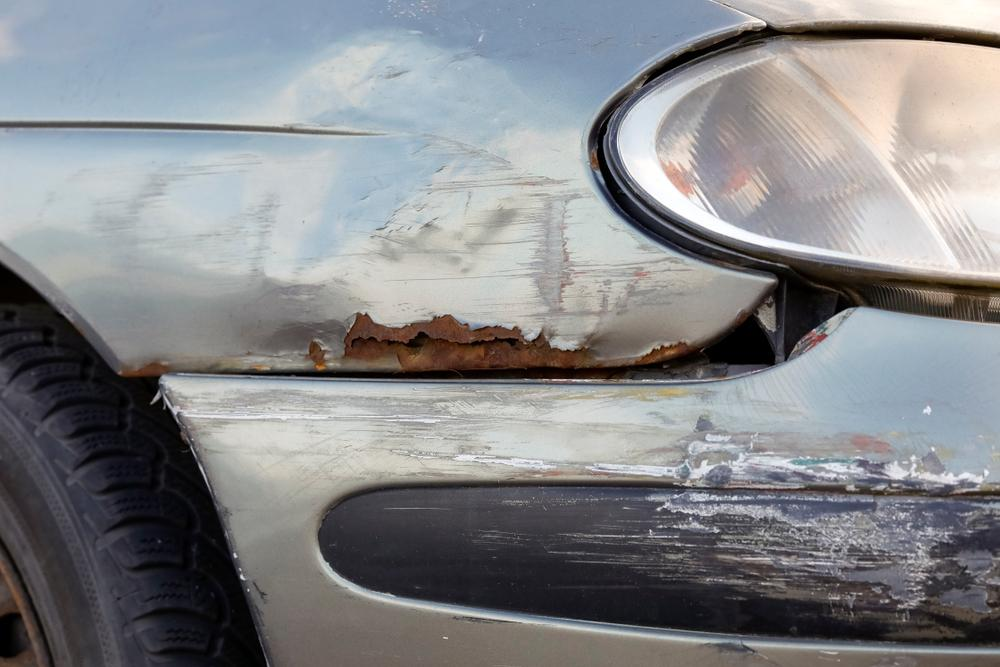crack: (347, 329, 516, 350)
dent: (257, 39, 560, 328)
scratch: (160, 371, 1000, 667), (40, 145, 290, 284), (546, 177, 710, 342)
